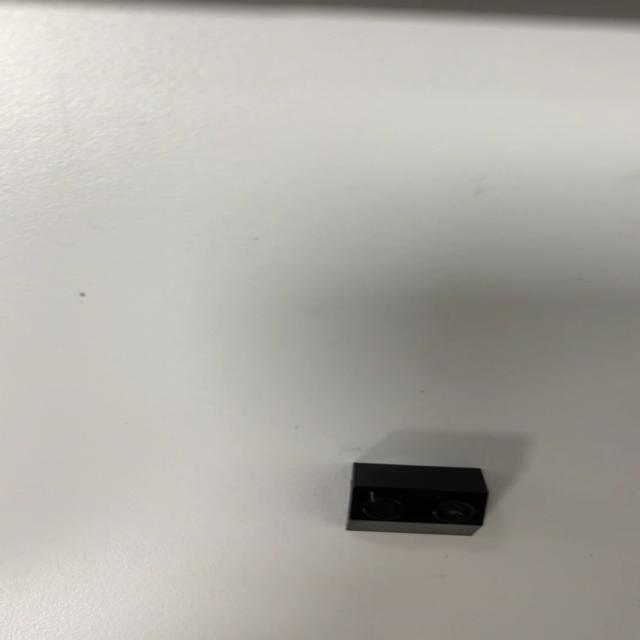P2x2x1: (344, 461, 489, 536)
